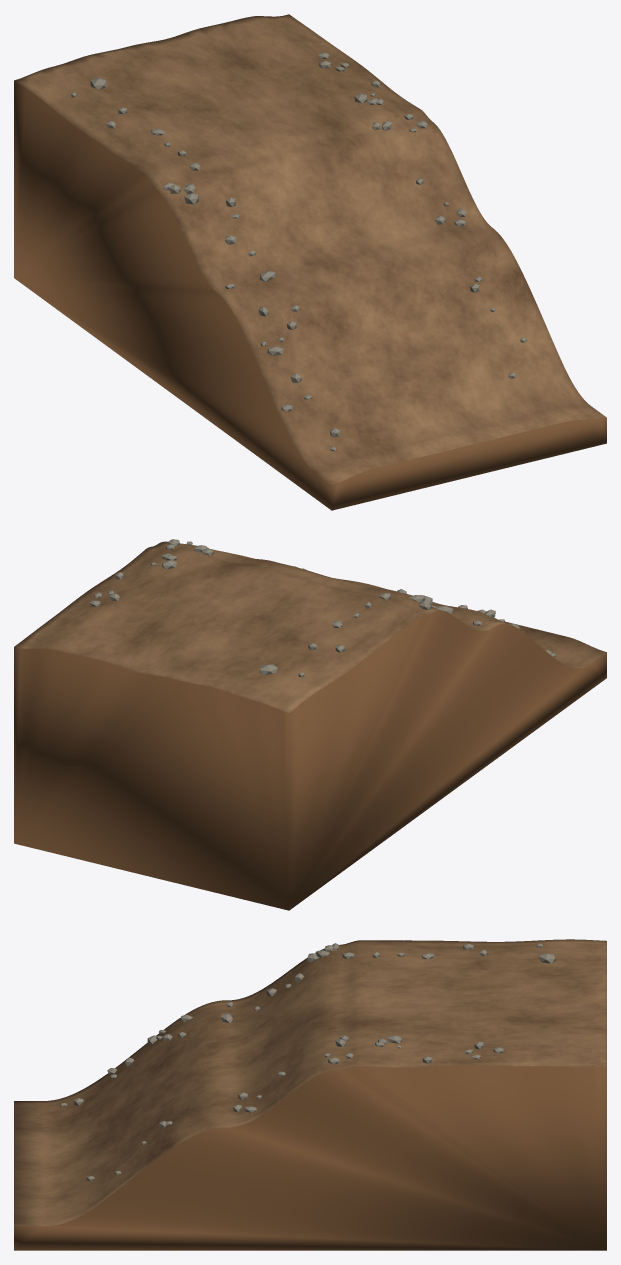
The model's file is rampa.glb.
3 views of the same model, one above another, from view 1: azimuth 30°, elevation 25°; view 2: azimuth 150°, elevation 25°; view 3: azimuth 270°, elevation 25° (orthographic). The views are drawn at different scales.
Visible parts, largest first — view 1: RAMPA DE TERRA | Corpo fechado_OPT; view 2: RAMPA DE TERRA | Corpo fechado_OPT; view 3: RAMPA DE TERRA | Corpo fechado_OPT.
Part boxes in pixels (x1,y1,x2,y2): RAMPA DE TERRA | Corpo fechado_OPT: (14, 14, 606, 510); RAMPA DE TERRA | Corpo fechado_OPT: (14, 539, 606, 910); RAMPA DE TERRA | Corpo fechado_OPT: (14, 939, 606, 1250).
Bounding box in the file's own units: 5 × 3.64 × 10.
1 material, 1 textured.
